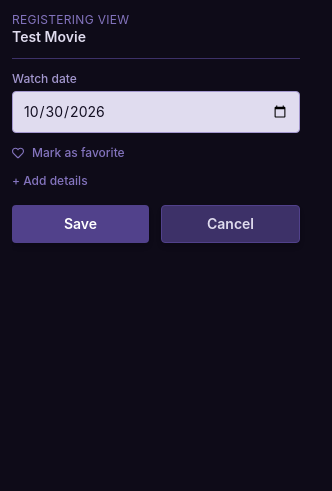
Scenario: ViewDetailsForm tier › preselects the movie tier when registering a view
Click the button "+ Add details" at {"x": 50, "y": 180}, box [12, 172, 300, 188]
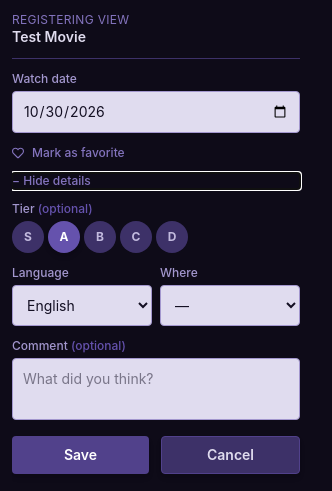
Expected: the button "A" is shown, [48, 220, 80, 252]
